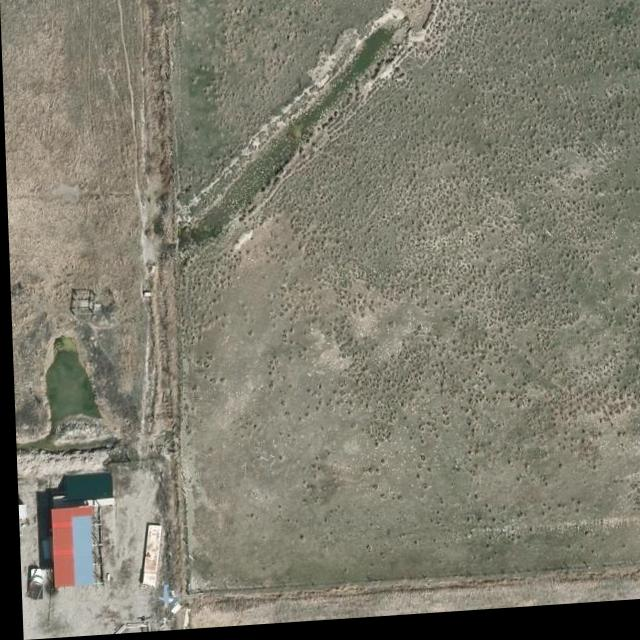vehicle: (21, 568, 42, 603)
